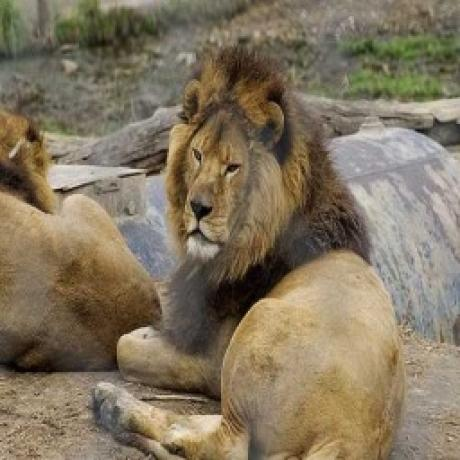Lion: (91, 36, 411, 460)
